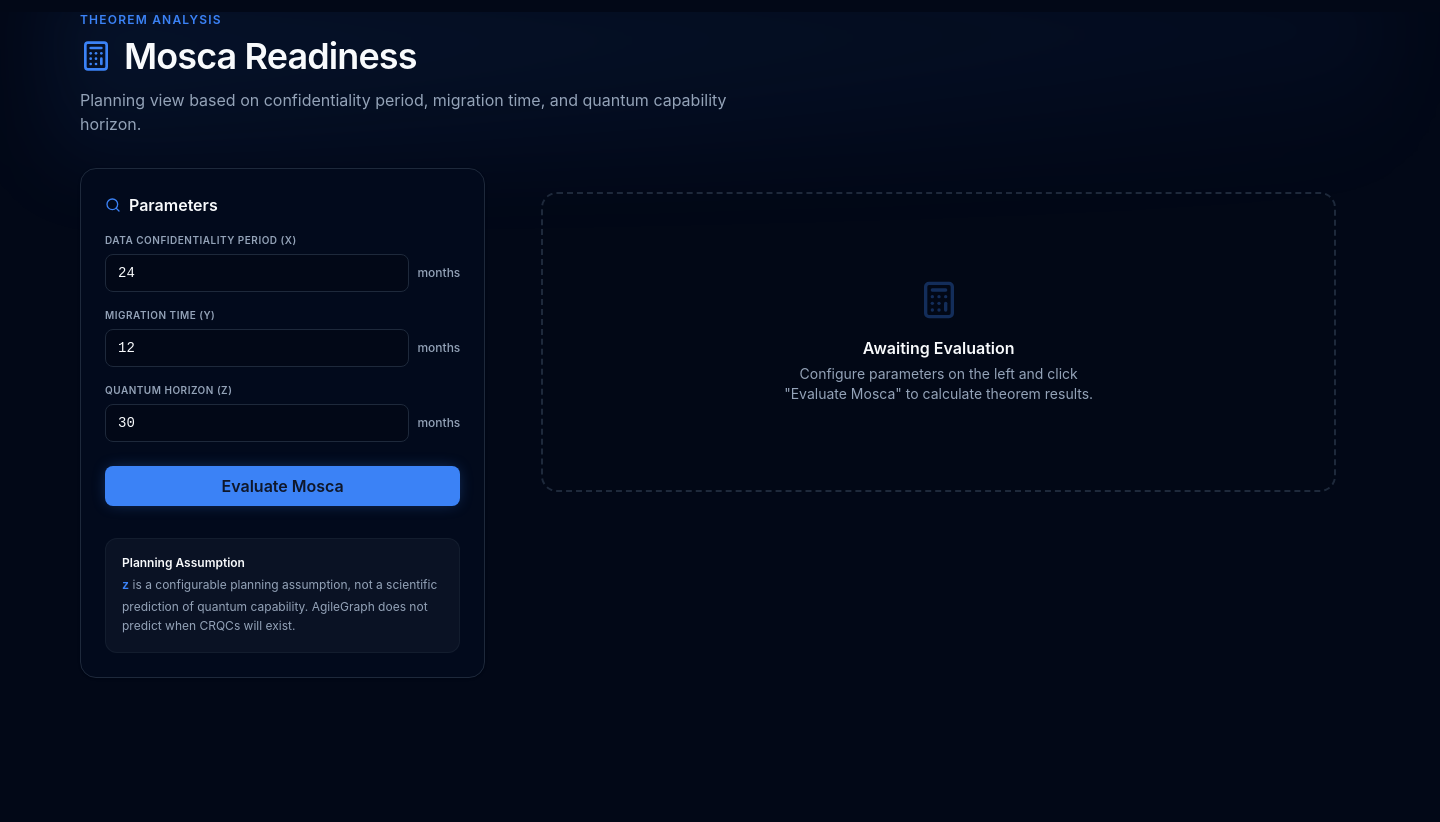
Scenario: Product Layer Components › MoscaReadiness › 3. Mosca equality renders NOT_AT_RISK
Click the button "Evaluate Mosca" at (283, 486), box top-left (105, 466), bottom-right (460, 506)
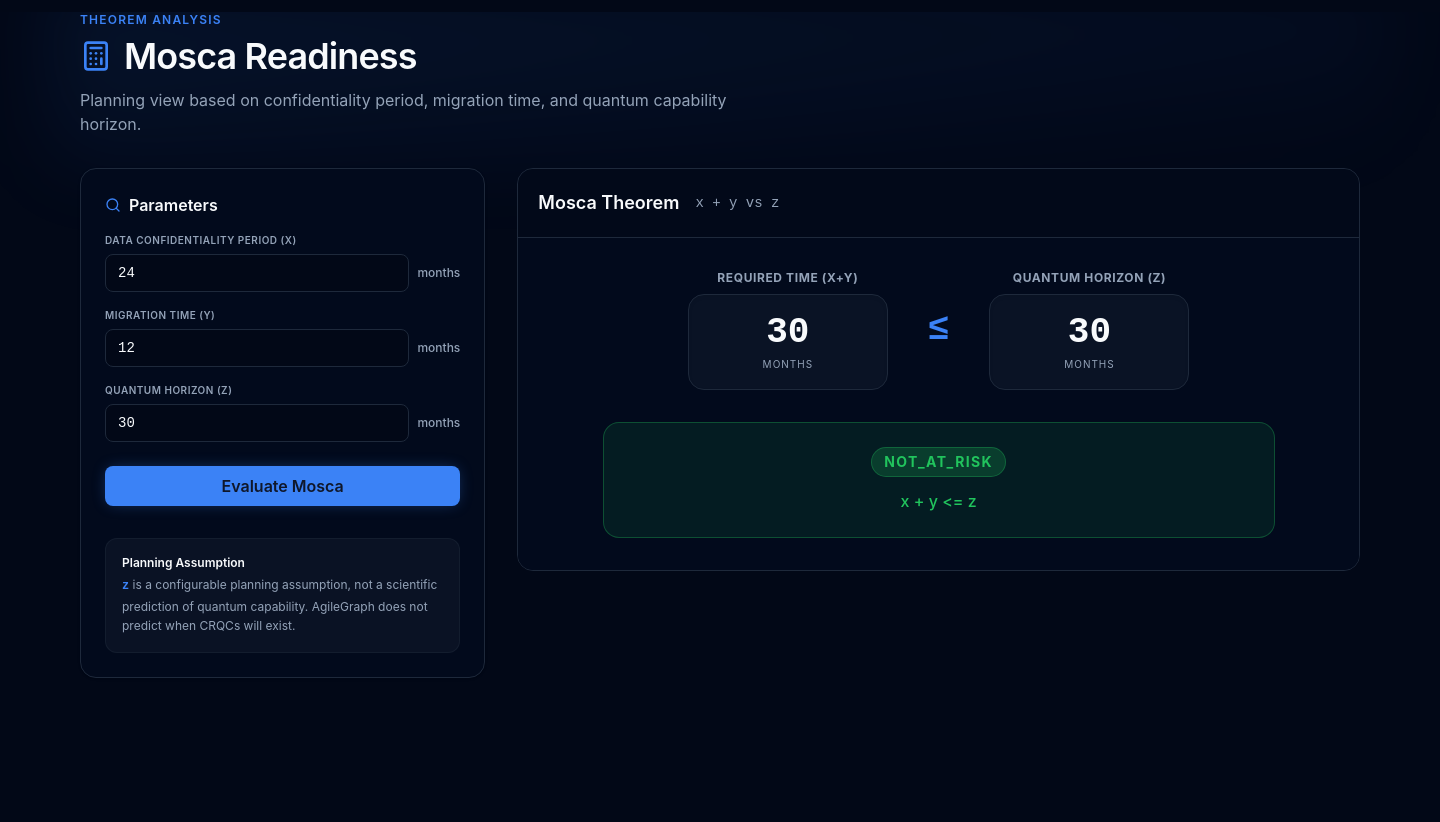
Check: the text "NOT_AT_RISK" is shown, box top-left (871, 447), bottom-right (1006, 477)
